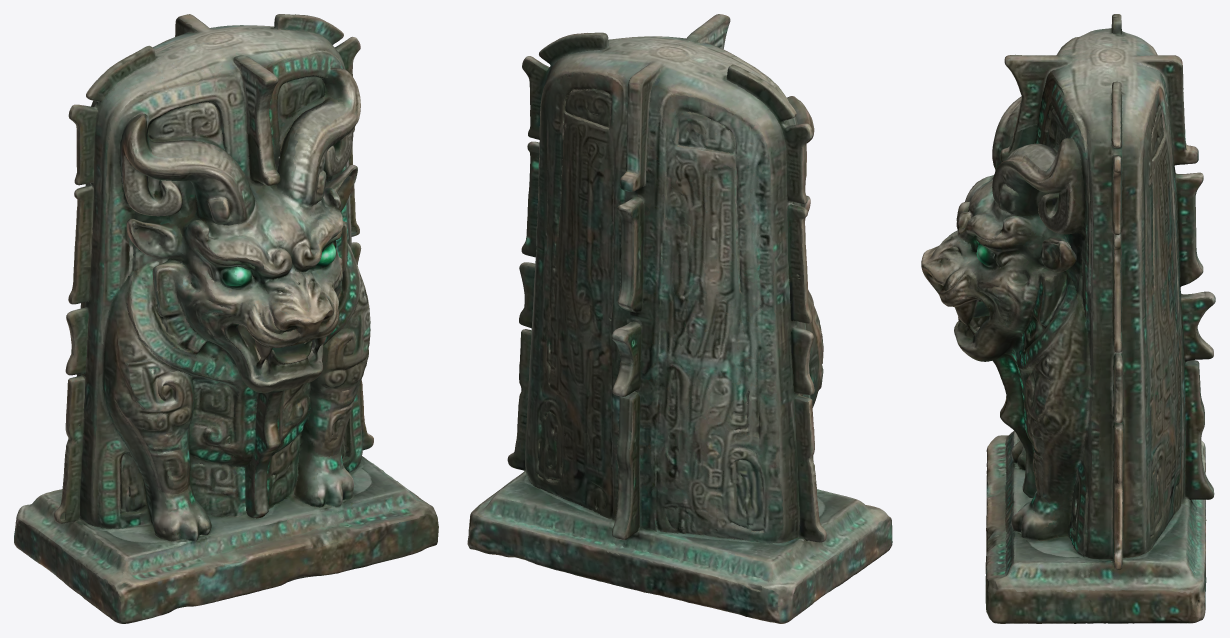
The model's file is taotie-boss.glb.
The picture shows the model from 3 angles, left to right: view 1: azimuth 30°, elevation 25°; view 2: azimuth 150°, elevation 25°; view 3: azimuth 270°, elevation 25°; orthographic projection. The views are drawn at different scales.
Visible parts, largest first — view 1: geometry_0; view 2: geometry_0; view 3: geometry_0.
Boxes of the visible parts, x1=… form: geometry_0: x1=14, y1=14, x2=438, y2=623; geometry_0: x1=467, y1=14, x2=892, y2=623; geometry_0: x1=921, y1=14, x2=1215, y2=623.
Bounding box in the file's own units: 0.2989 × 0.45 × 0.2414.
Materials: 1 (1 with a texture image).
